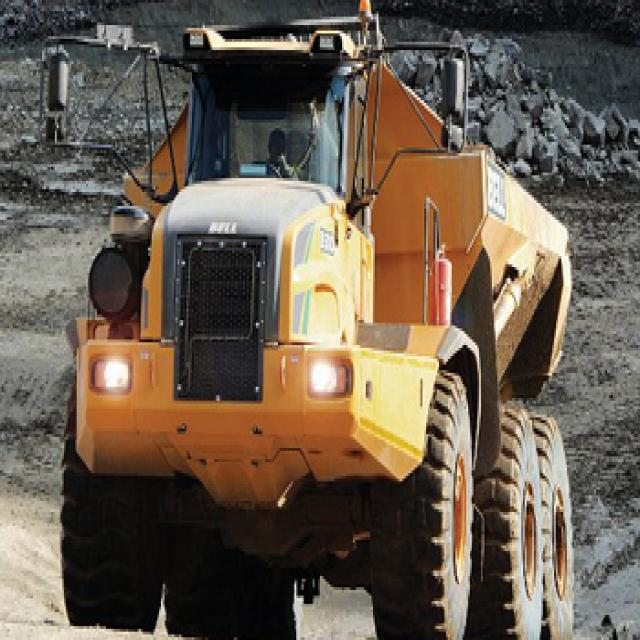dump_truck: (36, 14, 588, 637)
